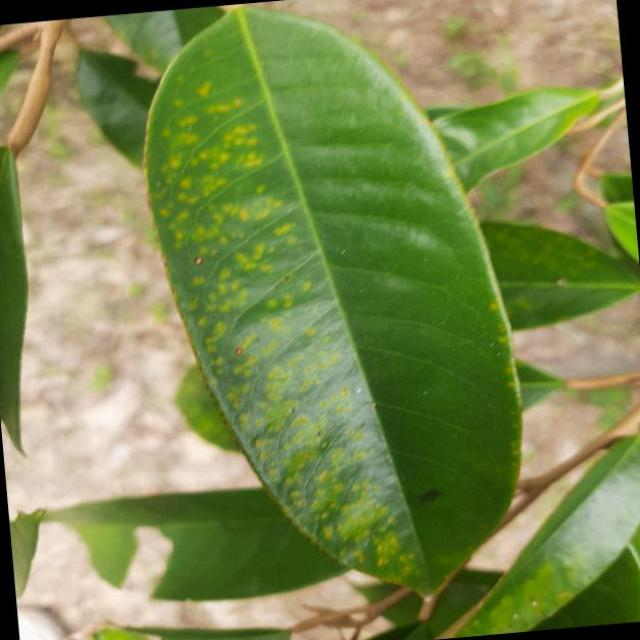Leaf Spot: (114, 0, 556, 630)
